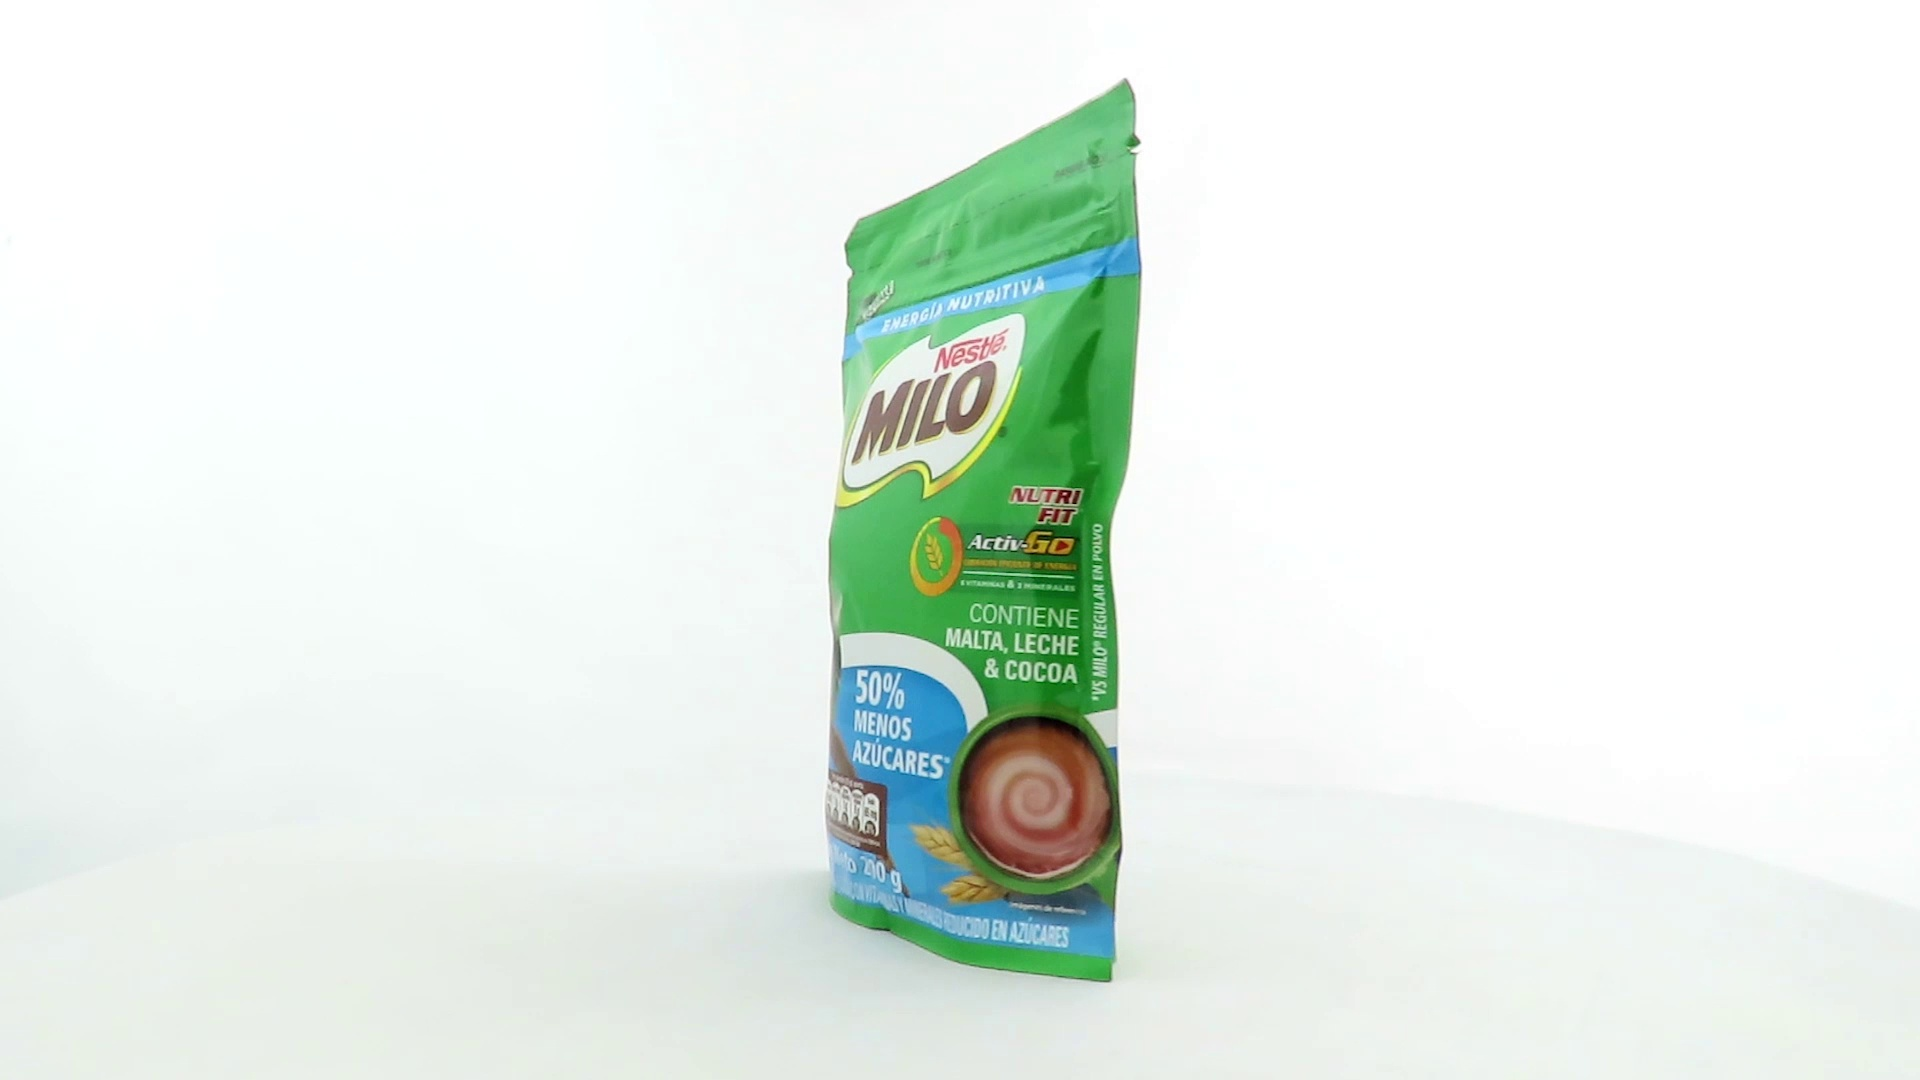COL0170205DYP20000: (806, 73, 1149, 989)
